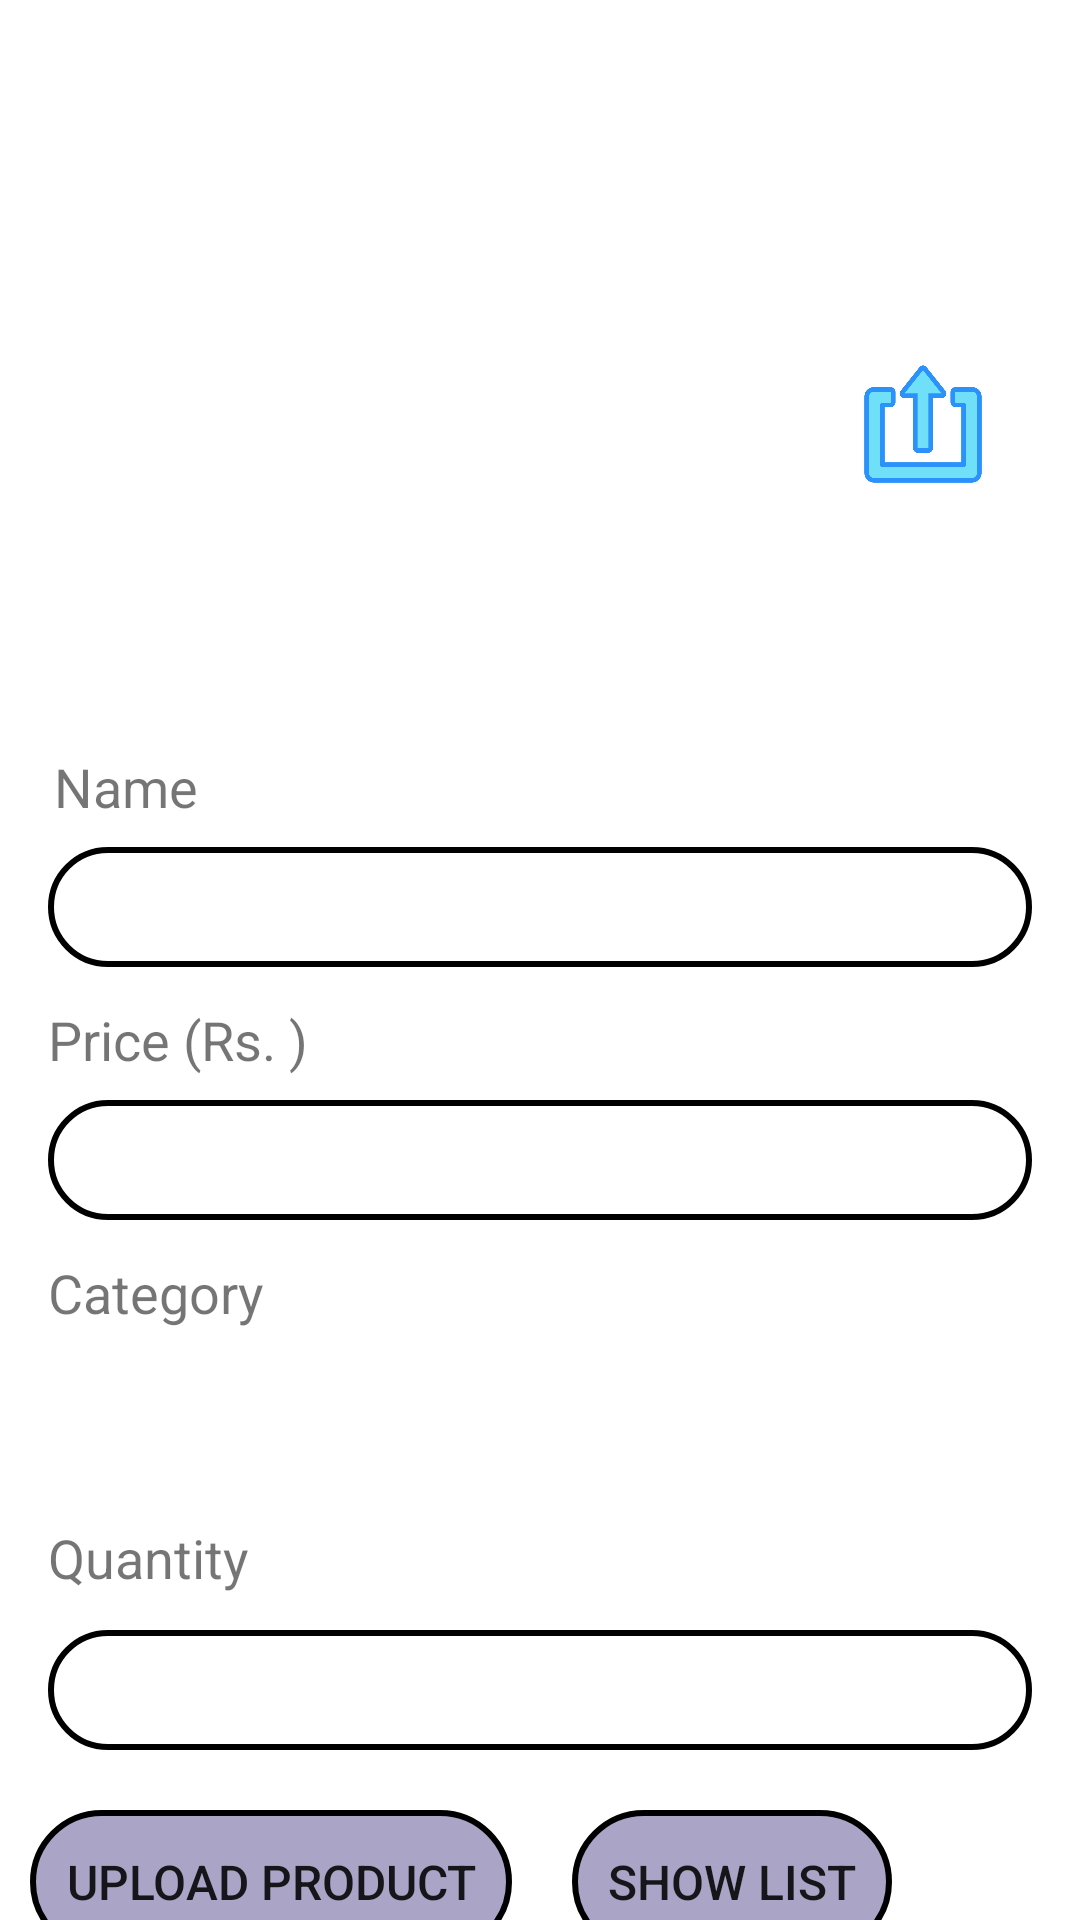

Named icons in this screenshot (1080×1920) and their bounding boxes, (x1, y1, x2, y2):
upload: (864, 365, 982, 483)
